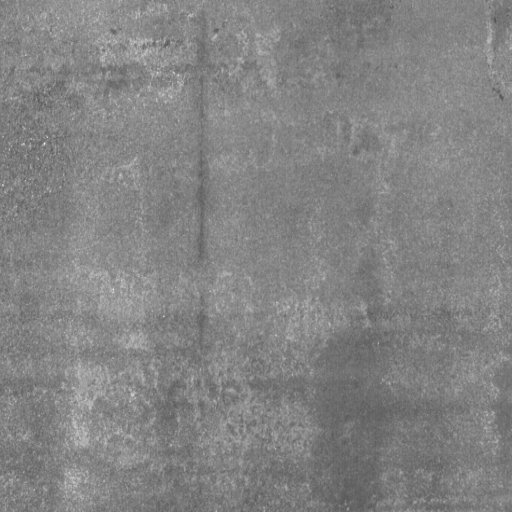zongxianghuashang: (195, 9, 213, 360)
